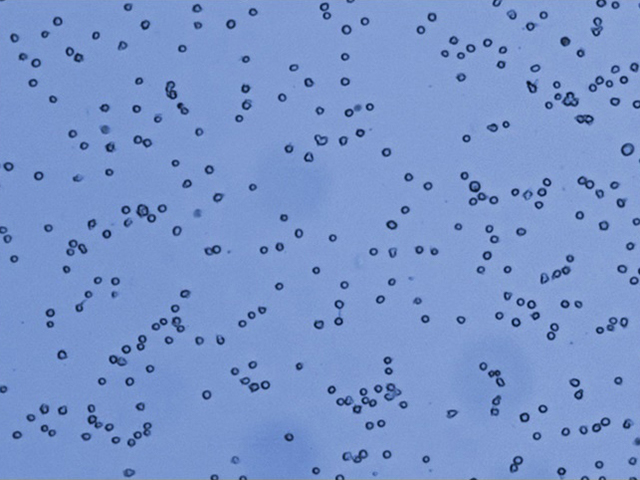A: (619, 140, 636, 159), (313, 132, 330, 149), (16, 48, 32, 64), (523, 79, 539, 95), (115, 38, 131, 53), (468, 179, 483, 194), (121, 466, 137, 480), (50, 14, 66, 28), (385, 219, 400, 233), (104, 139, 119, 153), (7, 31, 23, 44), (301, 75, 315, 89), (170, 224, 184, 238), (38, 402, 52, 416), (572, 387, 586, 401), (481, 36, 495, 50), (387, 245, 400, 260), (247, 381, 262, 394), (493, 376, 508, 389), (614, 196, 629, 209), (120, 1, 136, 13), (245, 5, 259, 18), (339, 23, 353, 36), (240, 98, 253, 112), (163, 79, 176, 93), (178, 287, 192, 300), (214, 332, 227, 346), (55, 348, 69, 361), (356, 447, 370, 460), (517, 411, 531, 424), (607, 95, 621, 108), (609, 63, 623, 76), (591, 15, 605, 28), (190, 2, 205, 14), (445, 408, 460, 420), (598, 416, 613, 428), (521, 188, 533, 203), (485, 122, 500, 134), (72, 52, 85, 65), (139, 18, 152, 31), (98, 101, 111, 114), (358, 15, 371, 28), (380, 146, 393, 159), (302, 150, 315, 163), (368, 246, 381, 259), (109, 274, 122, 287), (66, 237, 79, 250), (193, 334, 206, 347), (170, 315, 183, 328), (120, 343, 133, 356), (200, 388, 213, 401), (381, 447, 394, 460), (626, 455, 639, 468), (509, 315, 522, 328), (575, 174, 588, 187), (574, 112, 587, 125), (25, 76, 39, 88), (192, 19, 206, 31), (224, 18, 238, 30), (415, 23, 427, 37), (292, 226, 304, 240), (121, 217, 135, 229), (238, 375, 252, 387), (363, 419, 377, 431), (85, 414, 99, 426), (515, 295, 527, 309), (559, 297, 571, 311), (560, 264, 572, 278), (481, 250, 495, 262), (628, 60, 640, 74), (494, 58, 508, 70), (464, 42, 478, 54), (454, 72, 469, 83), (38, 28, 51, 40), (46, 93, 58, 106), (133, 75, 146, 87), (318, 1, 331, 13), (338, 51, 351, 63), (286, 62, 299, 74), (421, 180, 434, 192), (337, 134, 349, 147), (283, 143, 296, 155), (399, 204, 411, 217), (210, 244, 222, 257), (92, 274, 104, 287), (86, 218, 98, 231), (32, 169, 44, 182), (202, 163, 215, 175), (212, 191, 224, 204), (273, 280, 286, 292), (312, 318, 325, 330), (246, 309, 259, 321), (236, 318, 249, 330), (123, 375, 136, 387), (259, 379, 272, 391), (283, 431, 296, 443), (341, 450, 354, 462), (132, 429, 144, 442), (125, 437, 138, 449), (56, 404, 69, 416), (590, 421, 602, 434), (536, 403, 549, 415), (490, 395, 503, 407), (525, 298, 537, 311), (624, 241, 637, 253), (598, 219, 610, 232), (574, 209, 587, 221), (593, 187, 605, 200), (447, 34, 460, 46), (505, 9, 518, 21), (590, 26, 603, 38), (29, 57, 43, 68), (353, 128, 367, 139), (429, 245, 440, 259), (246, 182, 260, 193), (246, 359, 260, 370), (396, 399, 410, 410), (11, 429, 25, 440), (549, 320, 560, 334), (539, 271, 550, 285), (615, 263, 629, 274), (528, 63, 542, 74), (523, 21, 537, 32), (573, 47, 587, 58), (64, 46, 76, 58), (426, 11, 438, 23), (313, 105, 325, 117), (343, 107, 355, 119), (202, 245, 214, 257), (1, 233, 13, 245), (67, 128, 79, 140), (131, 103, 143, 115), (103, 166, 115, 178), (141, 137, 153, 149), (193, 126, 205, 138), (146, 212, 158, 224), (45, 318, 57, 330), (74, 301, 86, 313), (419, 312, 431, 324), (169, 302, 181, 314), (163, 334, 175, 346), (137, 333, 149, 345), (229, 454, 241, 466), (512, 453, 524, 465), (502, 290, 514, 302), (628, 275, 640, 287), (488, 233, 500, 245), (488, 194, 500, 206), (459, 170, 471, 182), (583, 178, 595, 190), (617, 74, 629, 86), (338, 278, 351, 289), (1, 160, 14, 171), (78, 140, 91, 151), (180, 178, 193, 189), (166, 90, 179, 101), (44, 307, 57, 318), (375, 293, 386, 306), (108, 353, 119, 366), (294, 360, 305, 373), (335, 395, 346, 408), (133, 401, 146, 412), (85, 403, 98, 414), (623, 417, 634, 430), (578, 424, 589, 437), (454, 314, 467, 325), (509, 187, 522, 198), (535, 187, 548, 198), (608, 180, 621, 191), (461, 132, 472, 145), (258, 243, 268, 257), (344, 394, 354, 408), (24, 412, 38, 422), (239, 53, 251, 64), (339, 76, 351, 87), (276, 91, 287, 103), (403, 171, 414, 183), (414, 244, 425, 256), (386, 276, 398, 287), (310, 265, 322, 276), (61, 264, 72, 276), (9, 253, 20, 265), (101, 228, 112, 240), (77, 243, 88, 255), (132, 134, 144, 145), (170, 157, 181, 169), (233, 113, 245, 124), (83, 289, 95, 300), (333, 299, 345, 310), (158, 316, 169, 328), (116, 356, 128, 367), (144, 363, 156, 374), (229, 366, 241, 377), (326, 384, 337, 396), (383, 365, 394, 377), (352, 403, 363, 415), (351, 454, 363, 465), (310, 465, 322, 476), (110, 434, 122, 445), (103, 422, 115, 433), (39, 422, 51, 433), (508, 463, 520, 474), (556, 465, 567, 477), (612, 375, 623, 387), (494, 310, 506, 321), (594, 325, 606, 336), (607, 315, 619, 326), (572, 298, 584, 309), (551, 269, 563, 280), (502, 264, 514, 275), (475, 264, 487, 275), (515, 226, 527, 237), (533, 200, 545, 211), (476, 190, 487, 202), (542, 177, 553, 189), (584, 113, 595, 125), (587, 82, 598, 94), (594, 74, 605, 86), (439, 48, 451, 59), (537, 9, 549, 20), (321, 11, 334, 21), (373, 382, 383, 395), (80, 431, 93, 441), (567, 377, 580, 387), (619, 316, 629, 329), (90, 30, 101, 41), (176, 42, 187, 53), (240, 83, 251, 94), (274, 241, 285, 252), (43, 222, 54, 233), (156, 203, 167, 214), (333, 316, 344, 327), (257, 305, 268, 316), (150, 321, 161, 332), (358, 386, 369, 397), (385, 382, 396, 393), (142, 420, 153, 431), (142, 428, 153, 439), (560, 426, 571, 437), (531, 431, 542, 442), (478, 361, 489, 372), (545, 331, 556, 342), (605, 322, 616, 333), (530, 311, 541, 322), (484, 223, 495, 234), (552, 91, 563, 102), (364, 102, 376, 112), (278, 211, 288, 223), (120, 204, 132, 214), (135, 342, 147, 352), (564, 253, 576, 263), (452, 222, 464, 232), (497, 45, 509, 55), (333, 471, 346, 480), (328, 233, 338, 244), (65, 247, 76, 257), (179, 106, 189, 117), (412, 296, 423, 306), (175, 324, 186, 334), (383, 355, 393, 366), (96, 376, 107, 386), (367, 398, 378, 408), (420, 453, 430, 464), (47, 428, 58, 438), (489, 407, 500, 417), (467, 197, 478, 207), (543, 100, 554, 110), (551, 80, 562, 90), (604, 78, 614, 89), (92, 420, 104, 429), (631, 99, 640, 111), (1, 224, 9, 237), (595, 1, 608, 9), (376, 418, 386, 428), (594, 459, 604, 469), (631, 216, 640, 227), (500, 120, 511, 129), (455, 51, 466, 60), (237, 473, 250, 480), (490, 1, 503, 8), (153, 114, 162, 124), (359, 396, 369, 405), (610, 1, 620, 10), (1, 383, 8, 395), (493, 368, 502, 377), (209, 472, 219, 480), (487, 368, 495, 378), (579, 474, 590, 480), (597, 474, 607, 480), (344, 1, 356, 5)
D: (135, 201, 150, 218), (558, 33, 573, 49), (69, 171, 86, 184), (191, 206, 206, 220), (98, 122, 112, 136), (351, 101, 364, 115), (630, 434, 640, 448), (174, 99, 185, 111)
